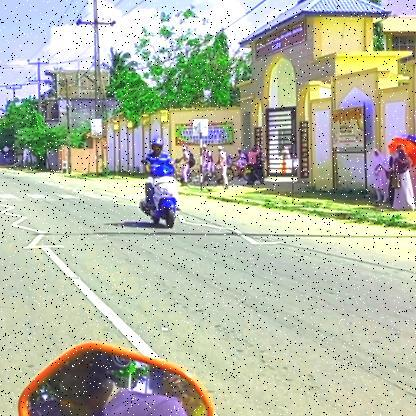motorcycle: (138, 165, 184, 229)
